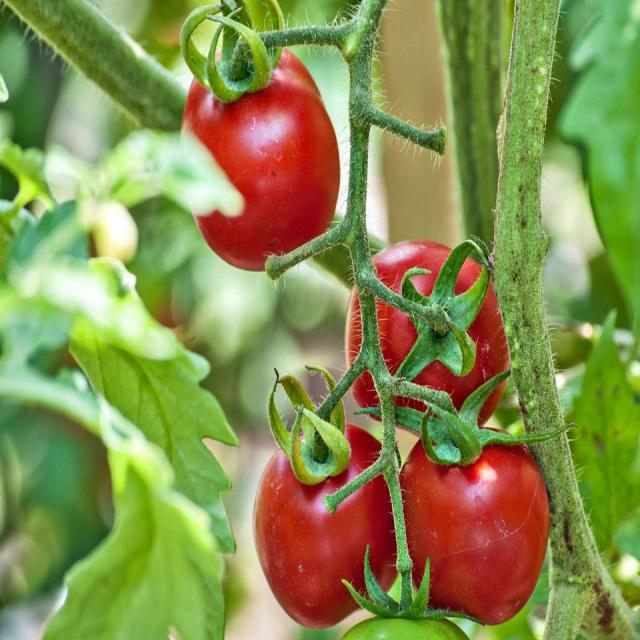Tomato: (182, 50, 340, 270), (254, 423, 398, 628), (400, 440, 549, 625), (414, 283, 510, 408), (374, 240, 451, 295), (378, 300, 418, 373), (345, 288, 361, 366), (479, 383, 504, 424), (351, 372, 379, 407), (455, 258, 481, 294), (395, 397, 425, 409)
